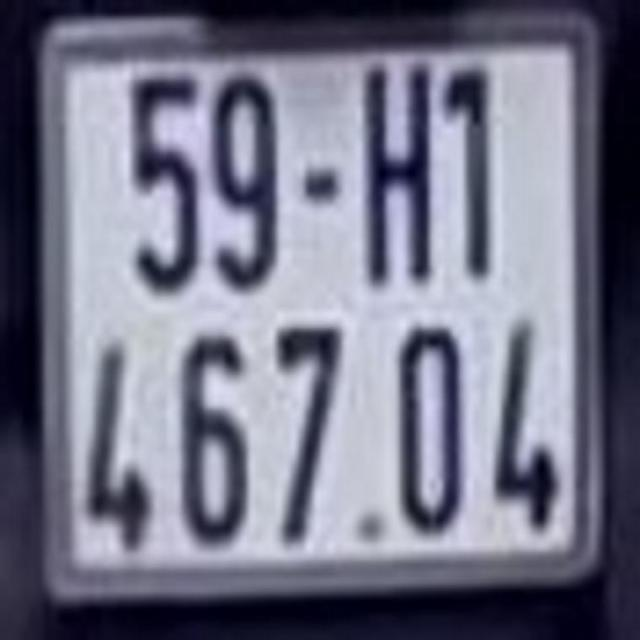0: (393, 317, 467, 538)
1: (438, 56, 503, 285)
4: (484, 313, 560, 546), (81, 337, 154, 561)
5: (128, 72, 203, 293)
6: (174, 320, 251, 546)
7: (267, 314, 344, 544)
9: (209, 73, 283, 290)
H: (356, 58, 437, 287)
